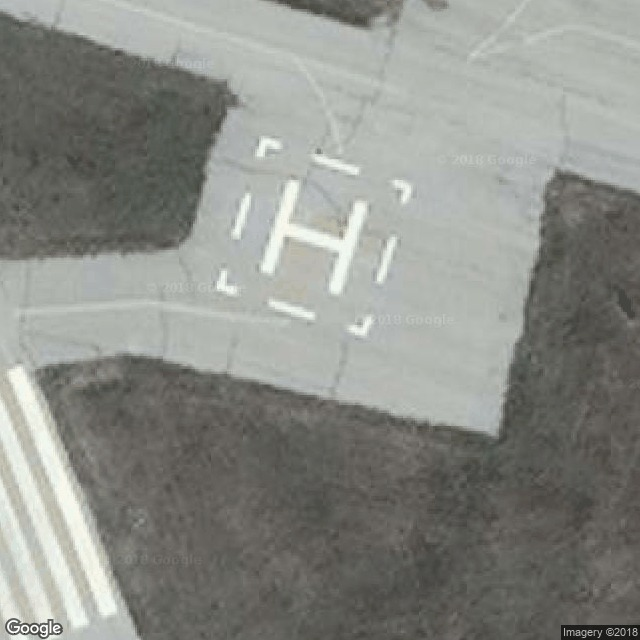heliport: (257, 160, 382, 310)
